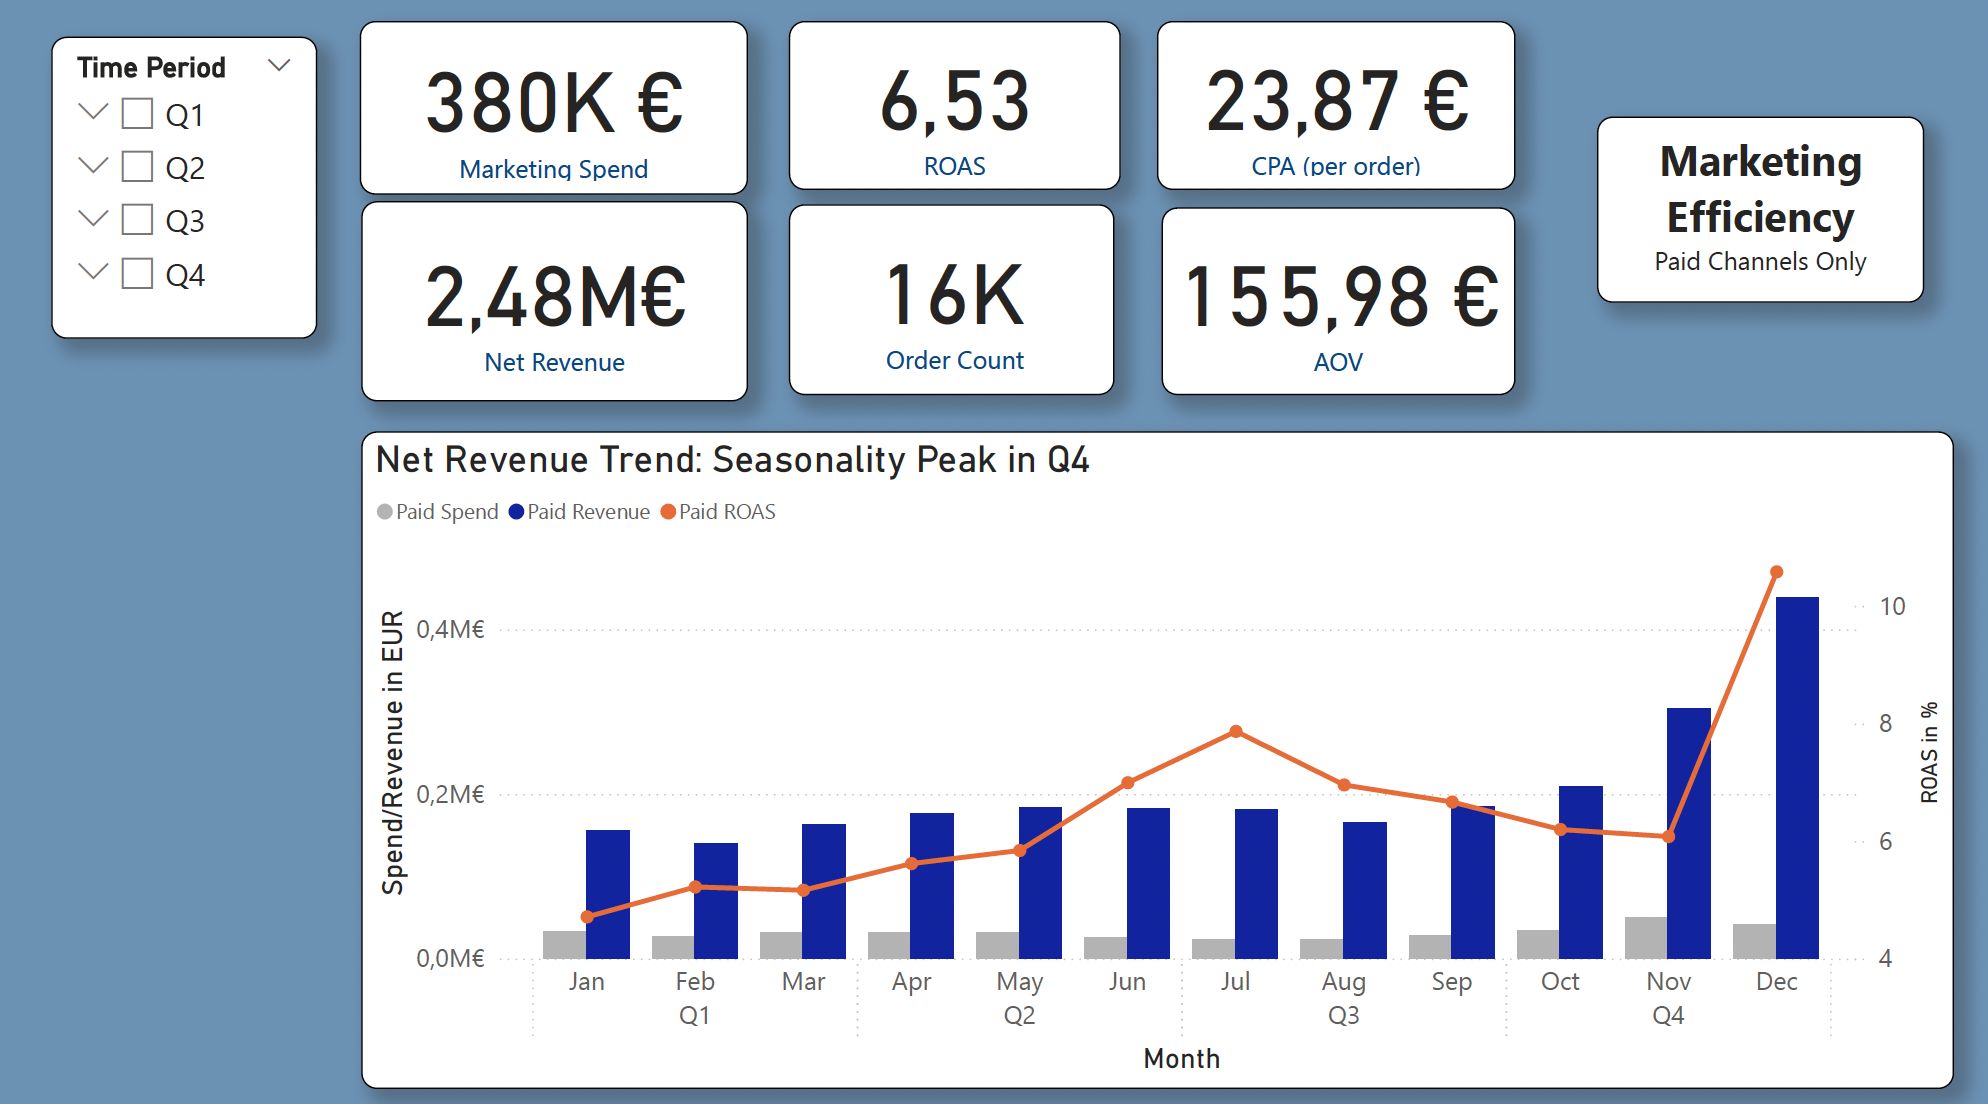

What the dashboard file says about the page in this screenshot:
{"tool":"powerbi","page":{"name":"Marketing Efficiency","canvas":[1280,720],"ordinal":1},"visuals":[{"type":"lineClusteredColumnComboChart","title":"Net Revenue Trend: Seasonality Peak in Q4","fields":{"Category":["dim_date.date Hierarchy.quarter","dim_date.date Hierarchy.month_name_en","dim_date.date Hierarchy.date"],"Y":["_MEASURES.Non-Organic Spend","_MEASURES.Non-Organic Revenue"],"Y2":["_MEASURES.Non-Organic ROAS"]},"box":[235.9,282.3,1017,419.6],"z":0},{"type":"card","fields":{"Values":["_MEASURES.Non-Organic ROAS"]},"box":[509.4,19.6,211.2,108.8],"z":1000},{"type":"card","fields":{"Values":["_MEASURES.CPA"]},"box":[744.5,19.6,228.6,108.8],"z":2000},{"type":"card","fields":{"Values":["_MEASURES.Marketing Spend"]},"box":[235.1,19.6,248.2,111],"z":3000},{"type":"card","fields":{"Values":["_MEASURES.Non-Organic Orders"]},"box":[508.5,137.3,208.8,121.8],"z":4000},{"type":"card","fields":{"Values":["_MEASURES.AOV"]},"box":[746.7,139.3,226.4,119.7],"z":5000},{"type":"card","fields":{"Values":["_MEASURES.Non-Organic Revenue"]},"box":[235.9,135.3,247.5,127.6],"z":6000},{"type":"textbox","box":[1025.3,80.5,209,119.7],"z":7000},{"type":"slicer","fields":{"Values":["dim_date.date Hierarchy.quarter","dim_date.date Hierarchy.month_name_en","dim_date.date Hierarchy.date"]},"box":[38.3,29.6,169.8,193.7],"z":8000}]}

Visuals, with their boxes in screenshot pixels (x1, y1, x2, y2), scaled from the page's 1280x720 canvas onto the 1988x1104 screenshot:
"Net Revenue Trend: Seasonality Peak in Q4" lineClusteredColumnComboChart: 366, 433, 1946, 1076
card - _MEASURES.Non-Organic ROAS: 791, 30, 1119, 197
card - _MEASURES.CPA: 1156, 30, 1511, 197
card - _MEASURES.Marketing Spend: 365, 30, 751, 200
card - _MEASURES.Non-Organic Orders: 790, 211, 1114, 397
card - _MEASURES.AOV: 1160, 214, 1511, 397
card - _MEASURES.Non-Organic Revenue: 366, 207, 751, 403
textbox: 1592, 123, 1917, 307
slicer - dim_date.date Hierarchy.quarter x dim_date.date Hierarchy.month_name_en: 59, 45, 323, 342
